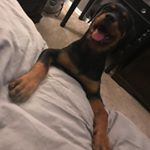puppy: (79, 1, 138, 72)
